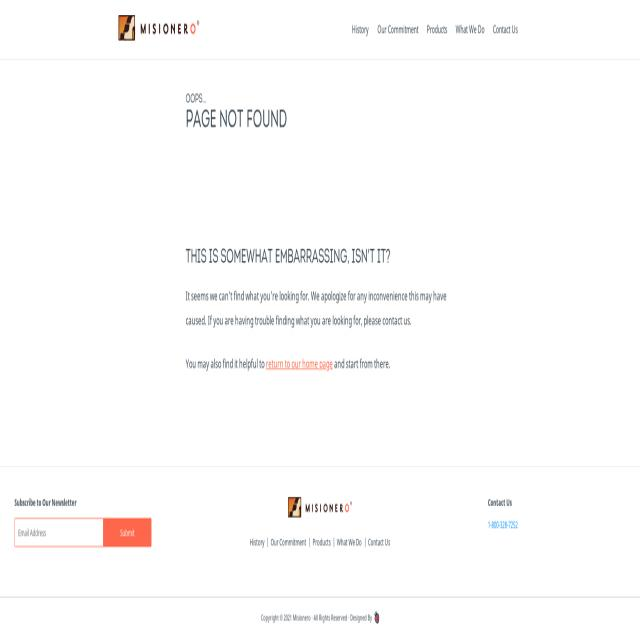button: (119, 15, 199, 41), (103, 518, 152, 547), (288, 497, 352, 518), (375, 612, 379, 624)
field: (14, 518, 104, 547)
